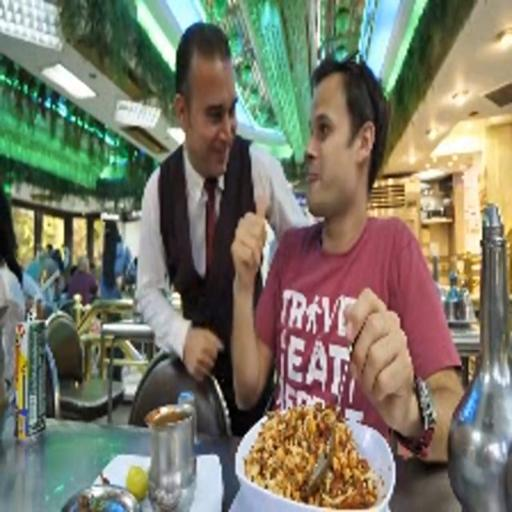nao-violencia: (116, 12, 474, 467)
